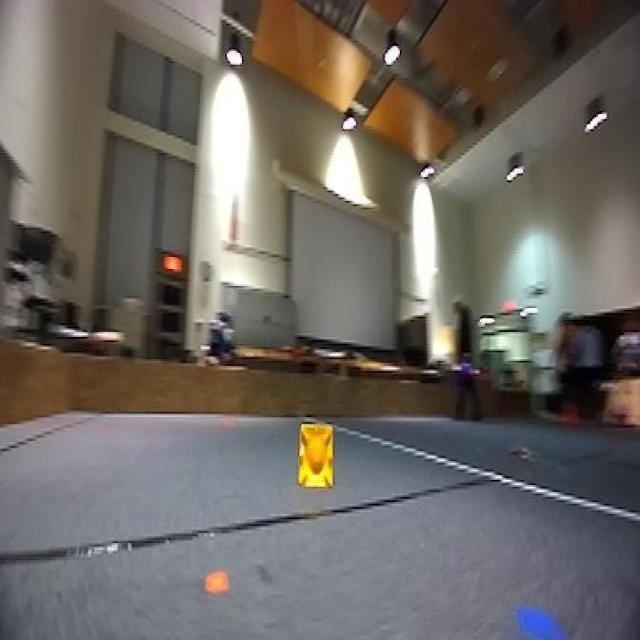frc_cone: (292, 419, 342, 495)
